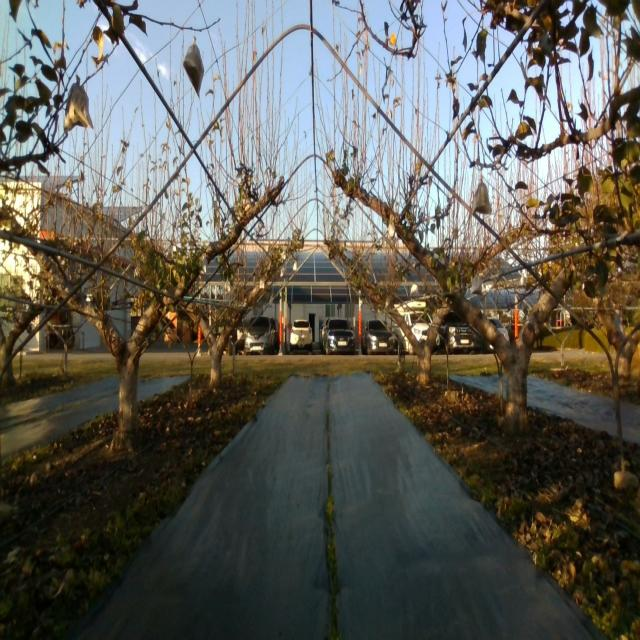pearbags: (63, 82, 93, 130), (183, 45, 204, 97), (471, 182, 492, 215), (471, 275, 482, 296)
